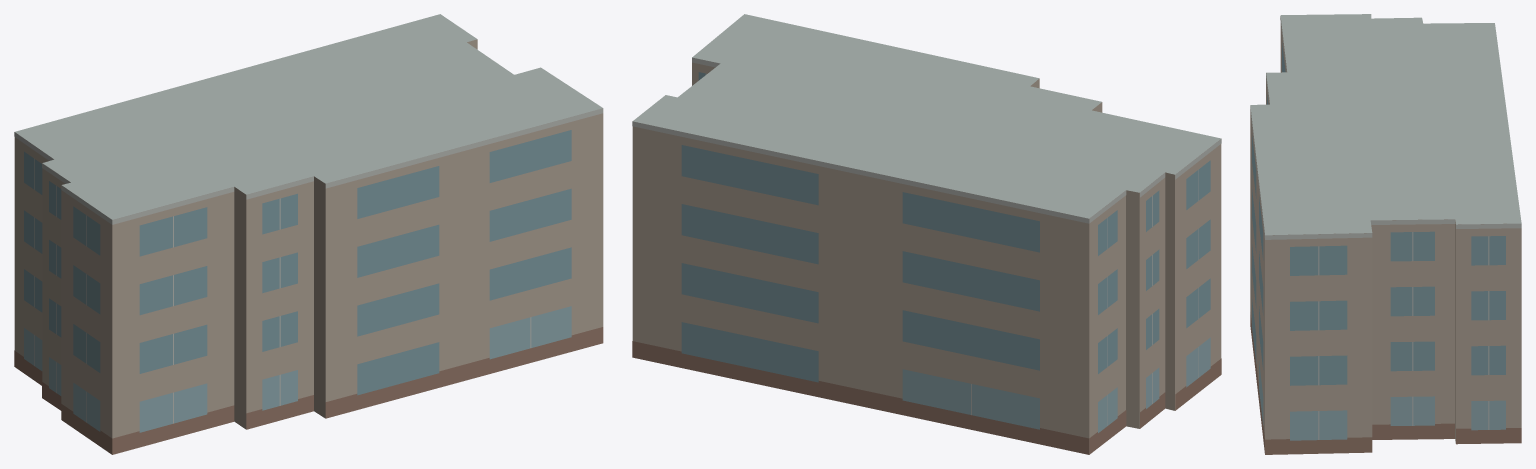
File: survey-upis-32527431.glb
3 renders of one model, left to right at view 1: azimuth 30°, elevation 25°; view 2: azimuth 150°, elevation 25°; view 3: azimuth 270°, elevation 25°, orthographic. The views are drawn at different scales.
Parts seen in each view (by area): view 1: survey-upis-32527431.tmp; view 2: survey-upis-32527431.tmp; view 3: survey-upis-32527431.tmp.
Part boxes in pixels (x1=…): survey-upis-32527431.tmp: x1=14, y1=14, x2=603, y2=454; survey-upis-32527431.tmp: x1=632, y1=14, x2=1221, y2=454; survey-upis-32527431.tmp: x1=1250, y1=14, x2=1521, y2=454.
Size of the model in its own units: 24.86 by 11.5 by 12.89.
